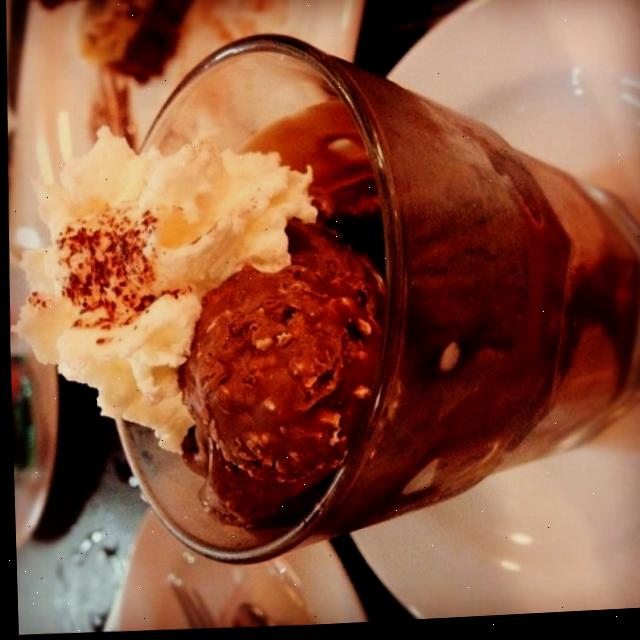蛋糕甜品: (55, 20, 640, 592)
